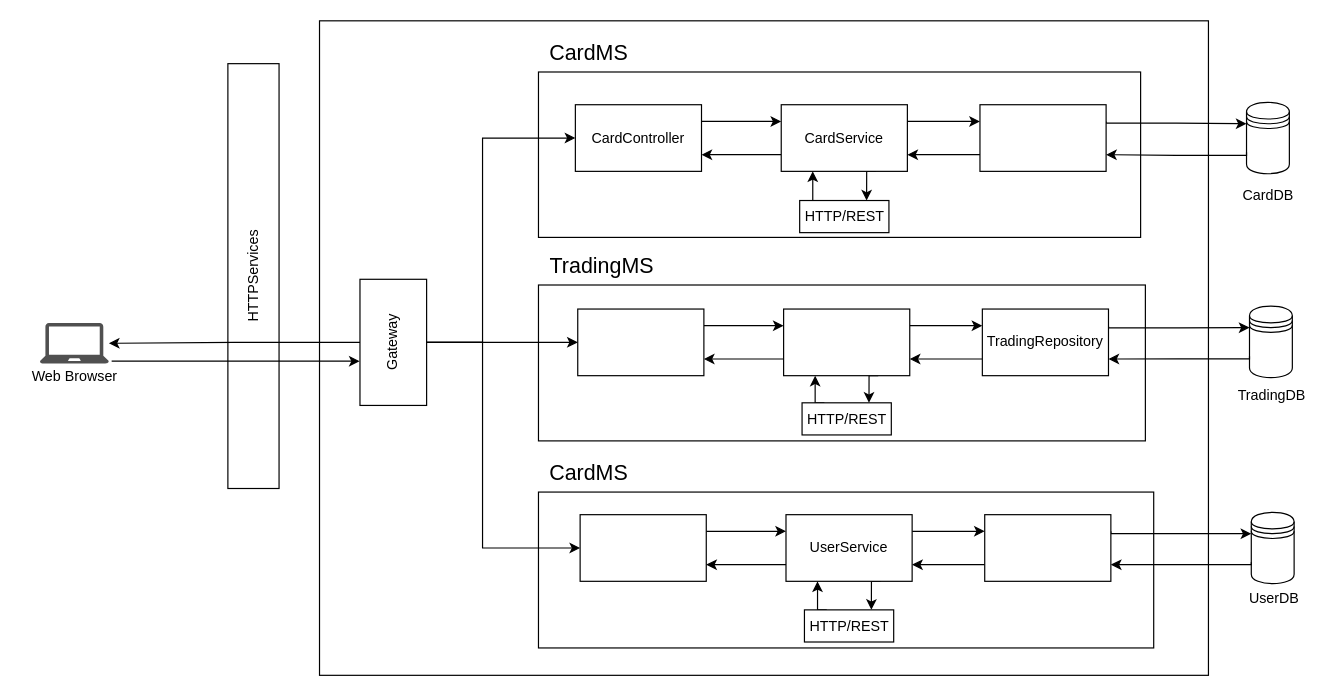
The diagram is 1335 pixels wide and 696 high, and some of its shapes have lost their labels. The shapes that lost their labels are listed below. From the top down, each one's centre as x and y in pixels, then its label:
point (1042, 137): CardRepository
point (640, 342): TradingController
point (846, 342): TradingService
point (642, 547): UserController
point (1047, 547): UserRepository
